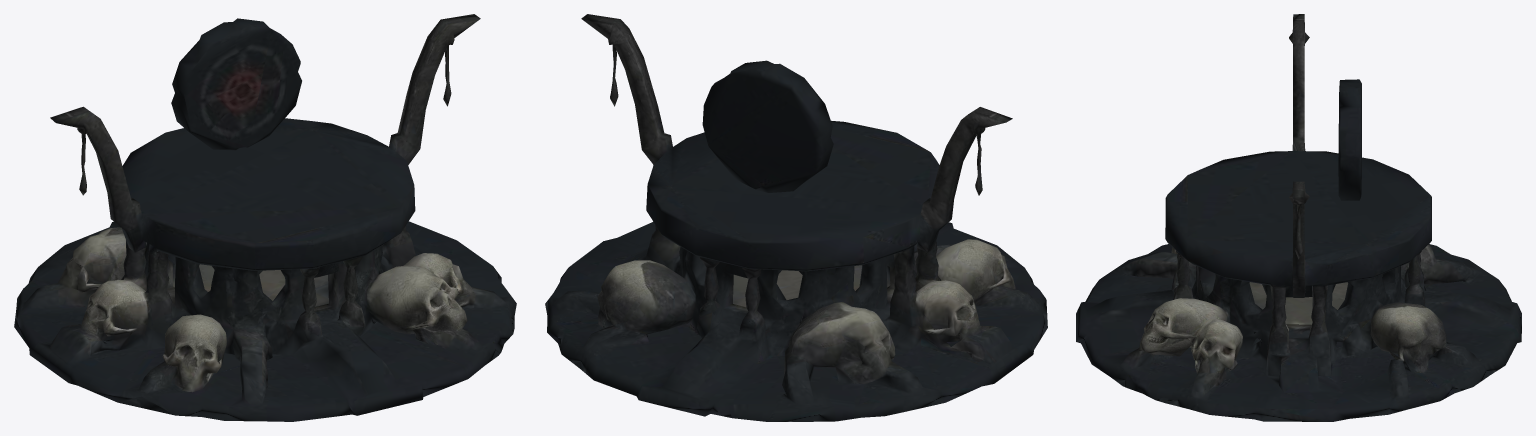
File: altar.glb
The picture shows the model from 3 angles, left to right: view 1: azimuth 30°, elevation 25°; view 2: azimuth 150°, elevation 25°; view 3: azimuth 270°, elevation 25°; orthographic projection. The views are drawn at different scales.
Visible parts, largest first — view 1: Mesh_0; view 2: Mesh_0; view 3: Mesh_0.
Boxes of the visible parts, x1,y1,x2,y2 form: Mesh_0: [14, 14, 516, 421]; Mesh_0: [545, 14, 1047, 421]; Mesh_0: [1076, 14, 1521, 421].
Size of the model in its own units: 1.9 by 1.14 by 1.9.
1 material, 1 textured.
